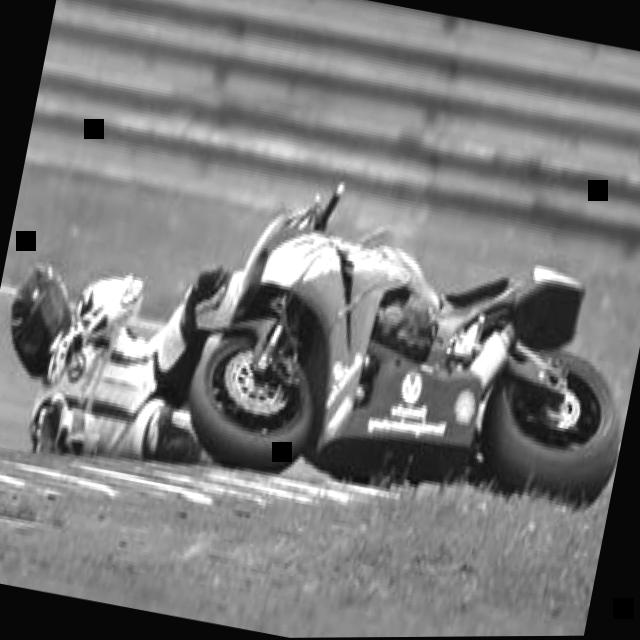Fall-Detected: (0, 195, 273, 502)
